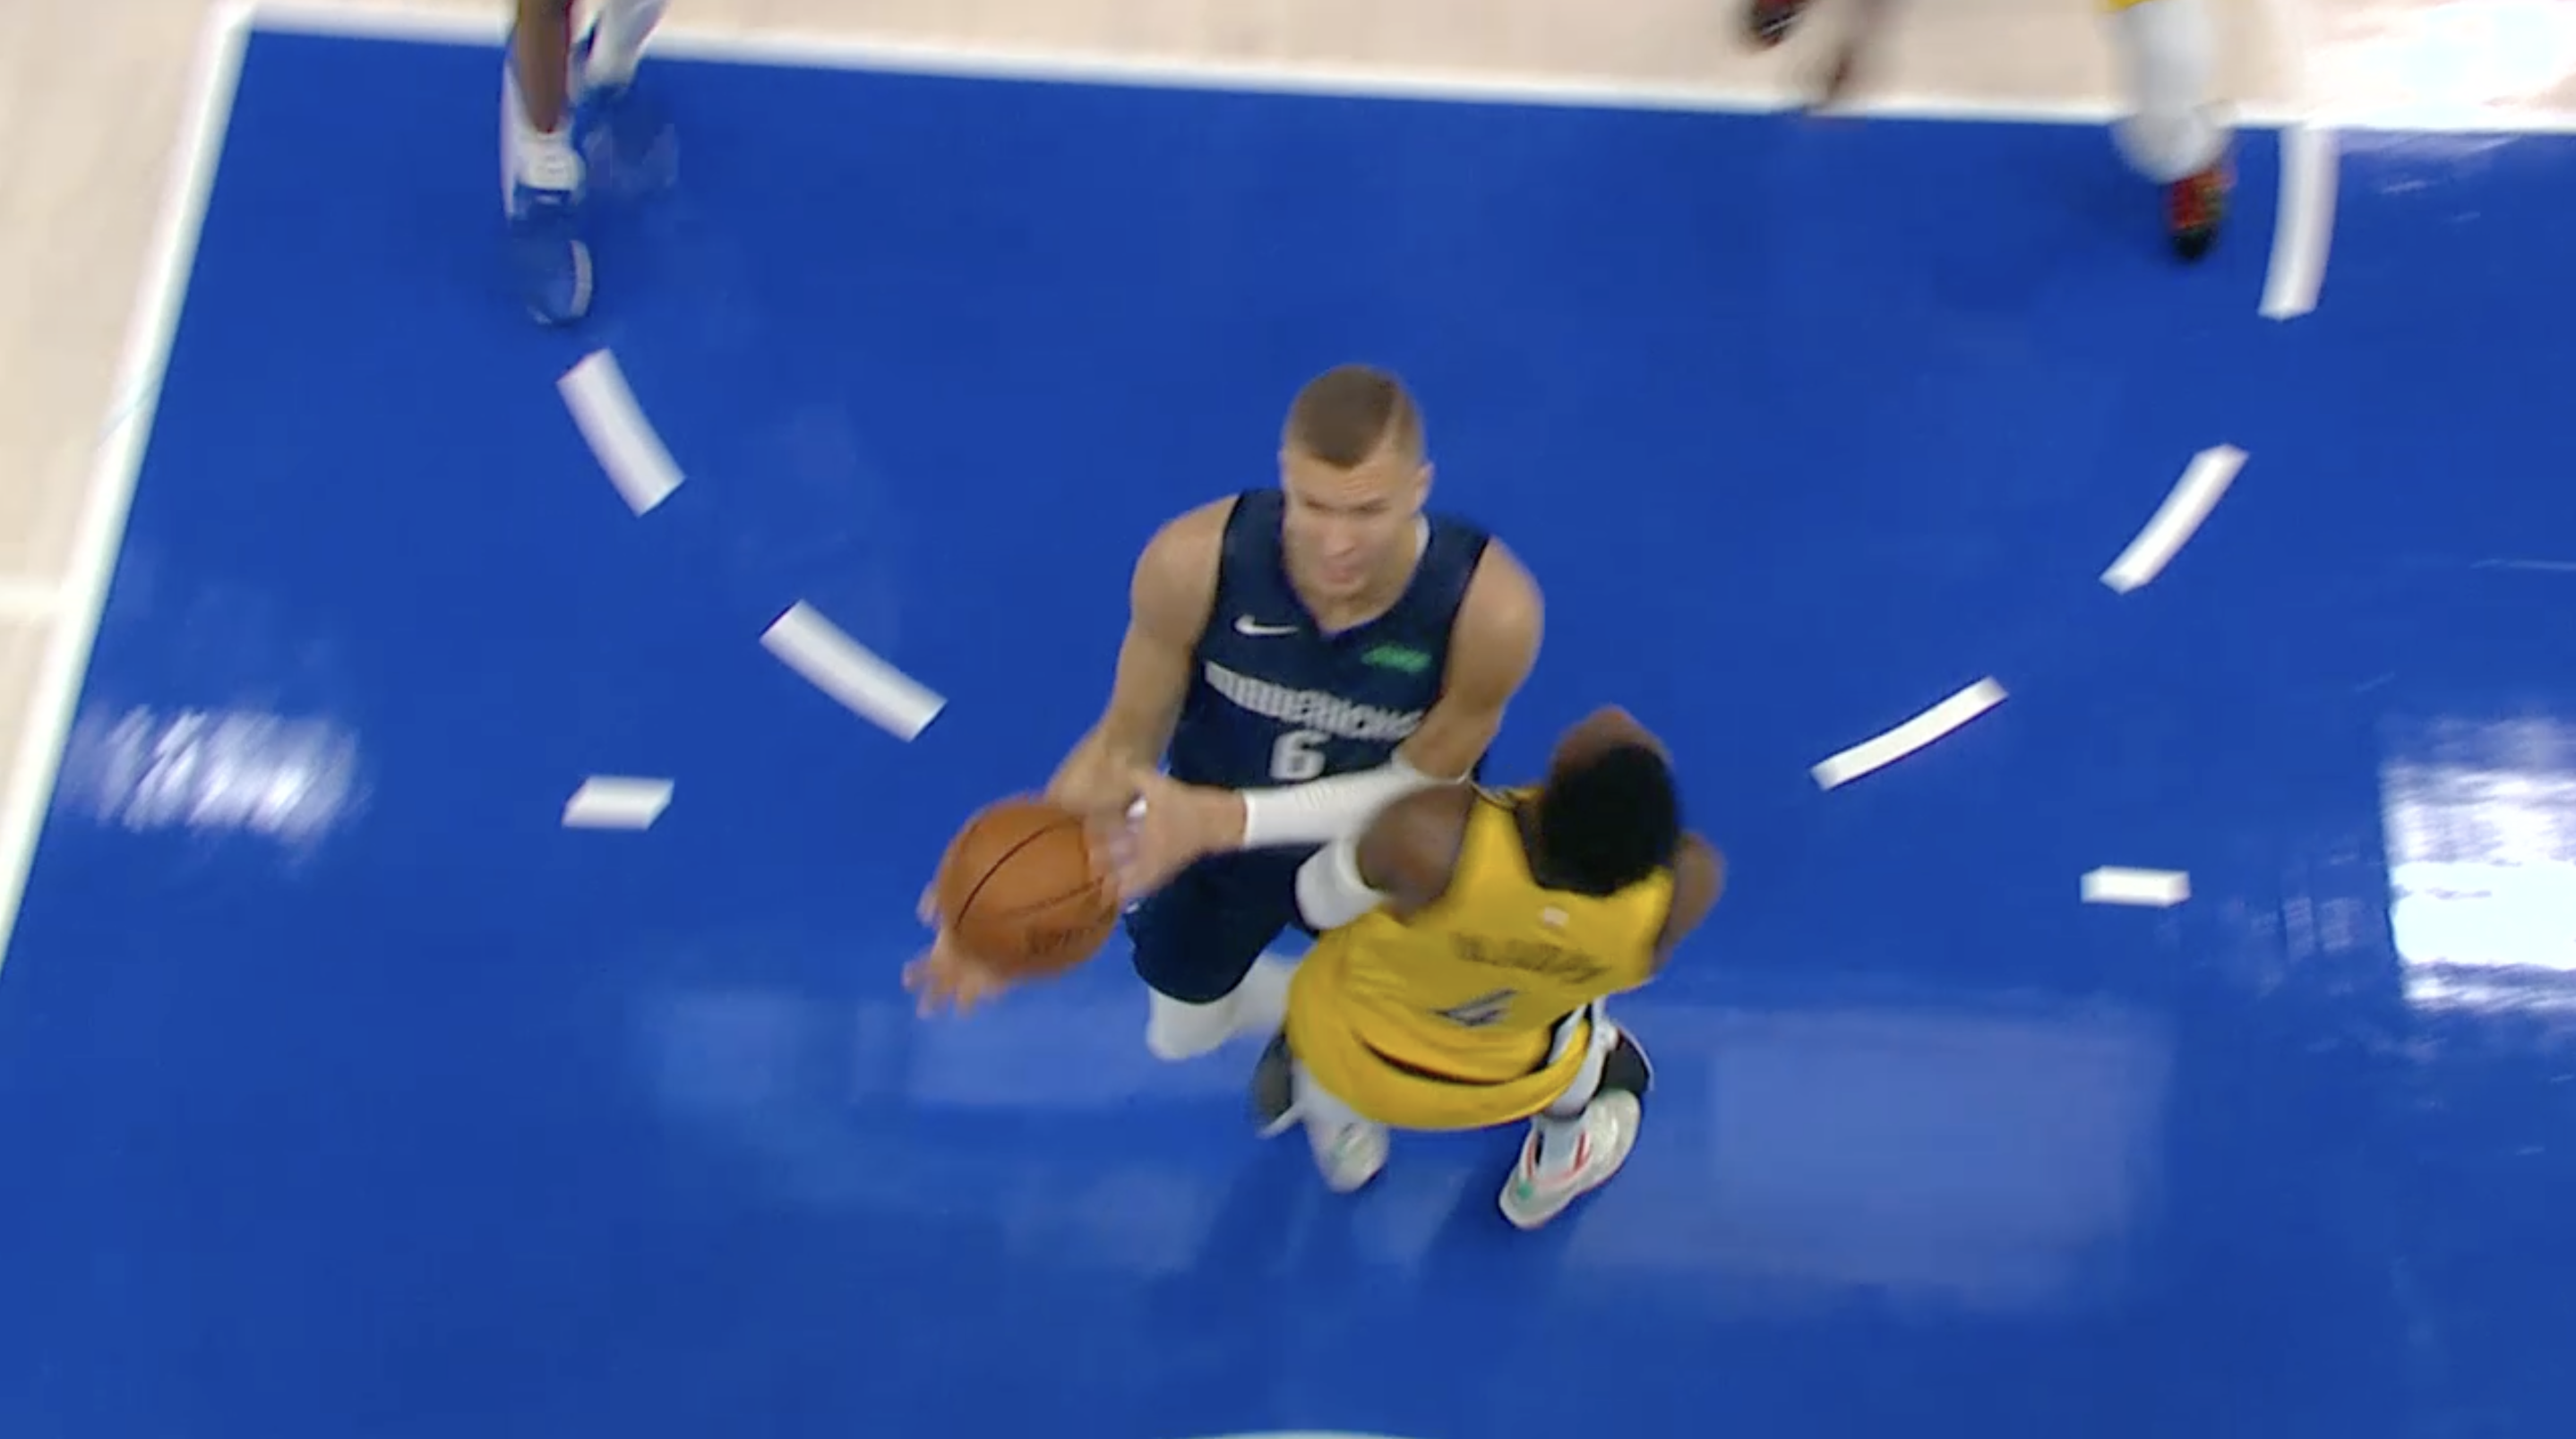Foul: (867, 302, 1704, 1313)
